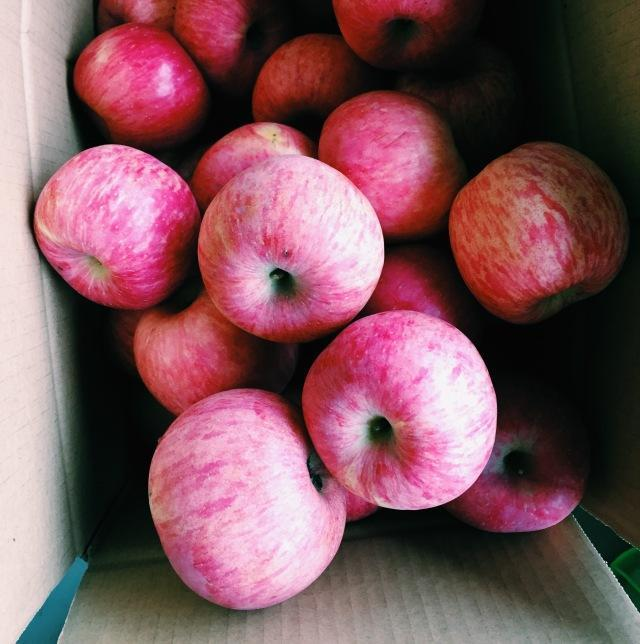apple: (146, 383, 352, 613), (299, 312, 498, 518), (199, 155, 386, 340), (446, 138, 629, 327), (30, 145, 201, 311), (316, 87, 465, 242), (129, 285, 296, 418), (73, 21, 214, 154), (461, 400, 583, 532), (249, 34, 377, 139), (172, 1, 256, 87), (338, 1, 449, 65)
